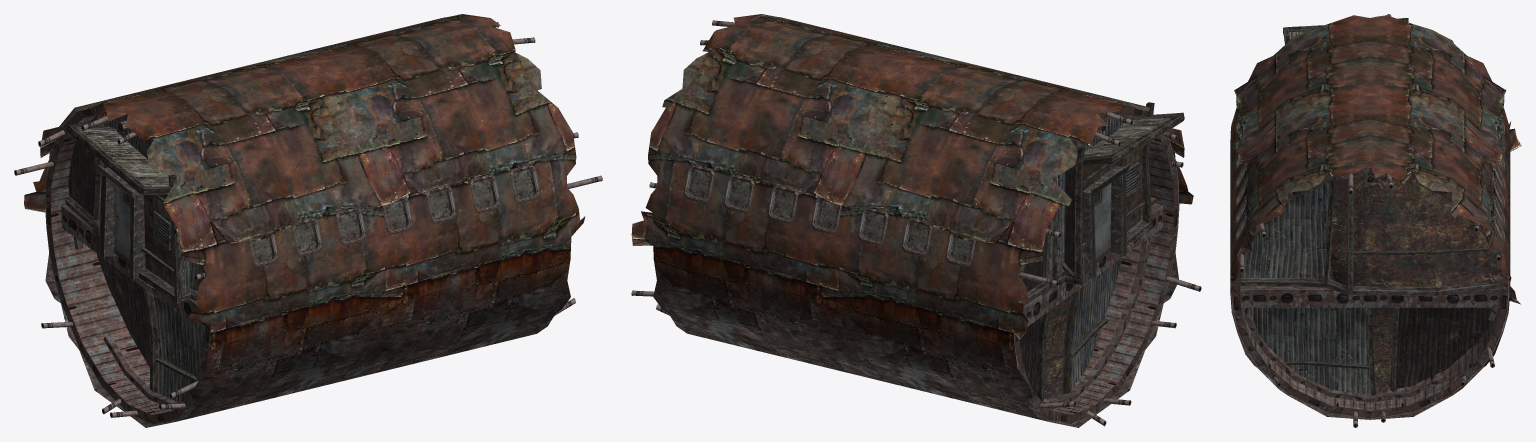
File: ramshacklefuselagmid01.obj
3 views of the same model, side by side, from view 1: azimuth 30°, elevation 25°; view 2: azimuth 150°, elevation 25°; view 3: azimuth 270°, elevation 25° (orthographic). The views are drawn at different scales.
Parts seen in each view (by area): view 1: RamshackleFuselagMid01:31, RamshackleFuselagMid01:3, RamshackleFuselagMid01:32, RamshackleFuselagMid01:2, RamshackleFuselagMid01:42; view 2: RamshackleFuselagMid01:31, RamshackleFuselagMid01:32, RamshackleFuselagMid01:3, RamshackleFuselagMid01:2, RamshackleFuselagMid01:42; view 3: RamshackleFuselagMid01:31, RamshackleFuselagMid01:3, RamshackleFuselagMid01:2, RamshackleFuselagMid01:32.
Boxes of the visible parts, x1,y1,x2,y2 form: RamshackleFuselagMid01:31: (24,14,585,427); RamshackleFuselagMid01:3: (65,114,204,401); RamshackleFuselagMid01:32: (14,22,602,425); RamshackleFuselagMid01:2: (79,129,169,391); RamshackleFuselagMid01:42: (114,184,130,264); RamshackleFuselagMid01:31: (631,14,1193,427); RamshackleFuselagMid01:32: (631,14,1201,426); RamshackleFuselagMid01:3: (1019,102,1184,401); RamshackleFuselagMid01:2: (1044,117,1171,398); RamshackleFuselagMid01:42: (1094,183,1111,263); RamshackleFuselagMid01:31: (1230,15,1521,419); RamshackleFuselagMid01:3: (1240,18,1499,395); RamshackleFuselagMid01:2: (1289,31,1499,394); RamshackleFuselagMid01:32: (1231,14,1509,427).
Bounding box in the file's own units: 86.59 × 57.67 × 59.51.
